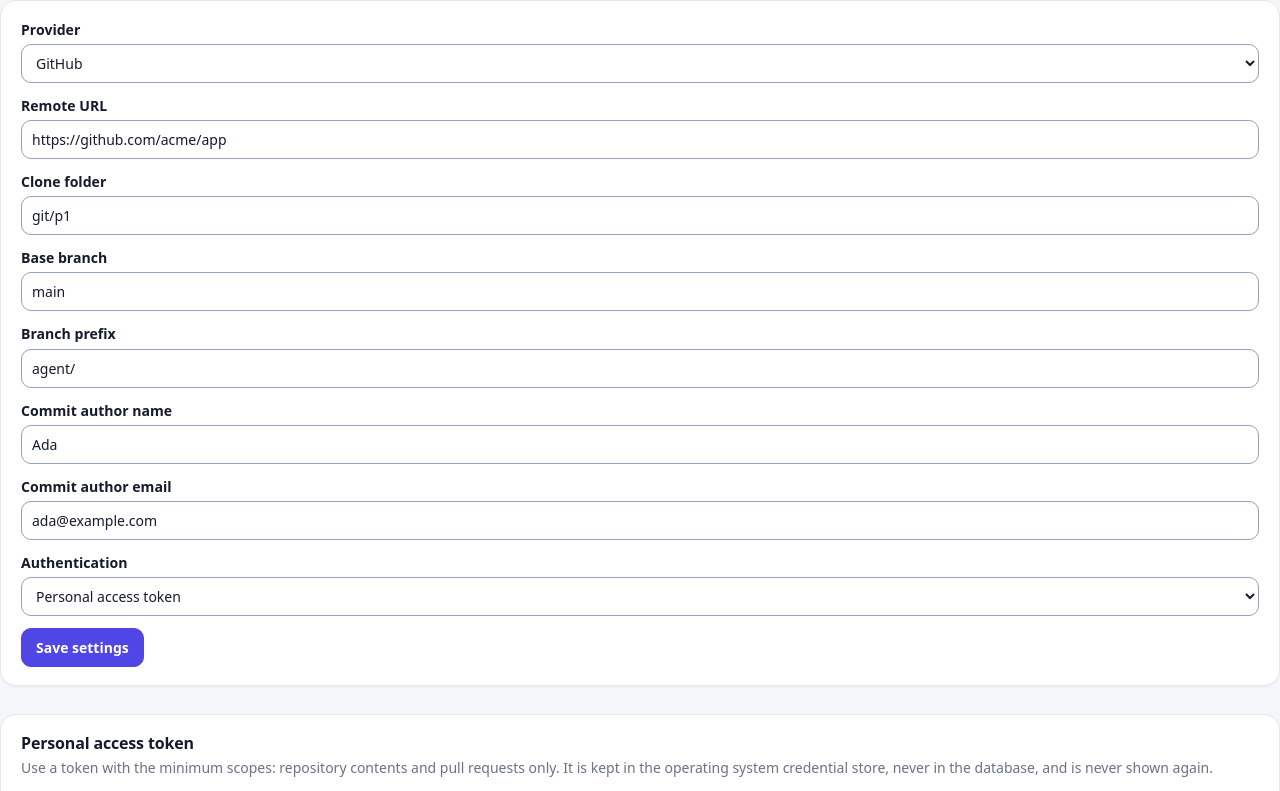
Test: git repository UI › shows a server validation error
This screenshot has width=1280, height=791.
Expected: the field labelled "Remote URL" is shown, left=21, top=120, right=1259, bottom=159
Step 1. Click the button "Save settings" → (82, 647), box left=21, top=628, right=144, bottom=667
(page scrolled)
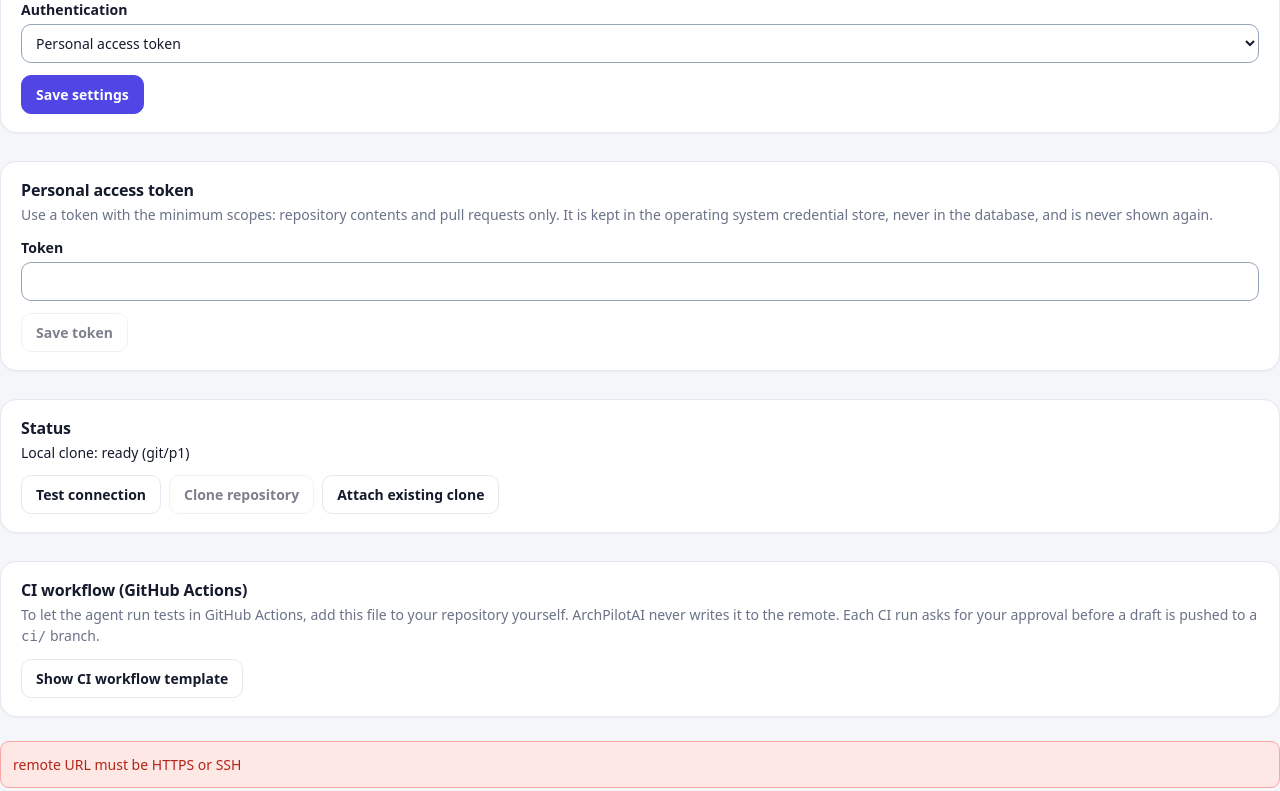
Result: the message reads "remote URL must be HTTPS or SSH" at left=13, top=755, right=241, bottom=774
